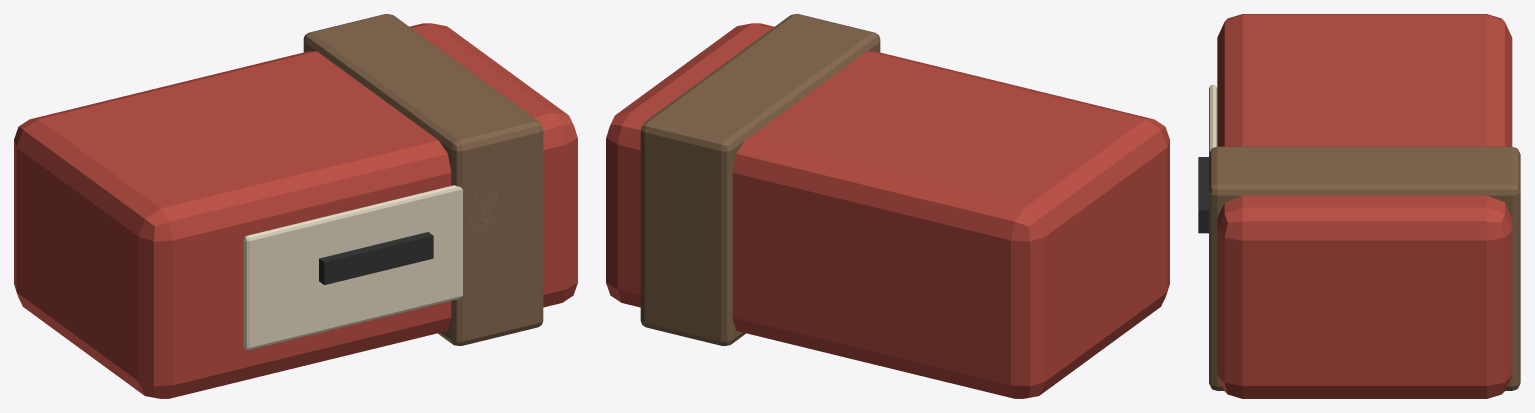
Rendered from Item_blast_charge.fbx.
The picture shows the model from 3 angles, left to right: view 1: azimuth 30°, elevation 25°; view 2: azimuth 150°, elevation 25°; view 3: azimuth 270°, elevation 25°; orthographic projection.
Parts seen in each view (by area): view 1: model.017; view 2: model.017; view 3: model.017.
Part boxes in pixels (x1,y1,x2,y2): model.017: (14,14,577,398); model.017: (606,14,1169,398); model.017: (1198,14,1520,398).
Bounding box in the file's own units: 0.12 × 0.054 × 0.0765.
